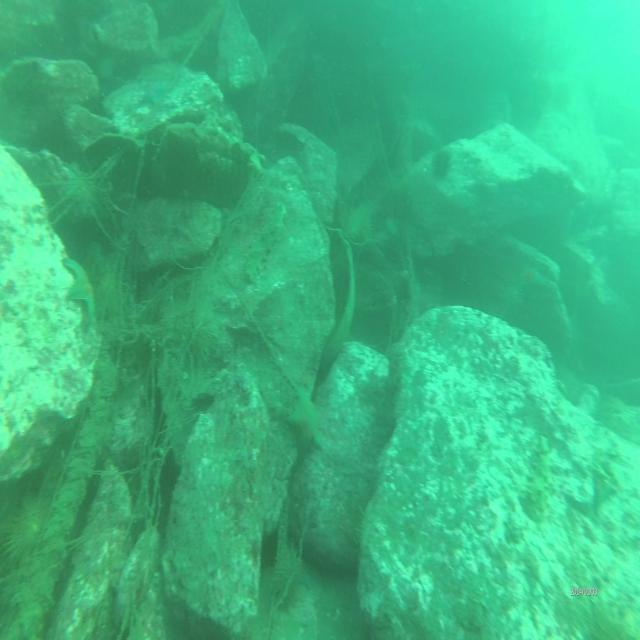echinus: (2, 496, 50, 568), (273, 541, 303, 604), (430, 149, 451, 180)
holothurian: (244, 205, 289, 281), (526, 431, 552, 523)
starfish: (284, 384, 322, 459), (58, 253, 99, 321)
